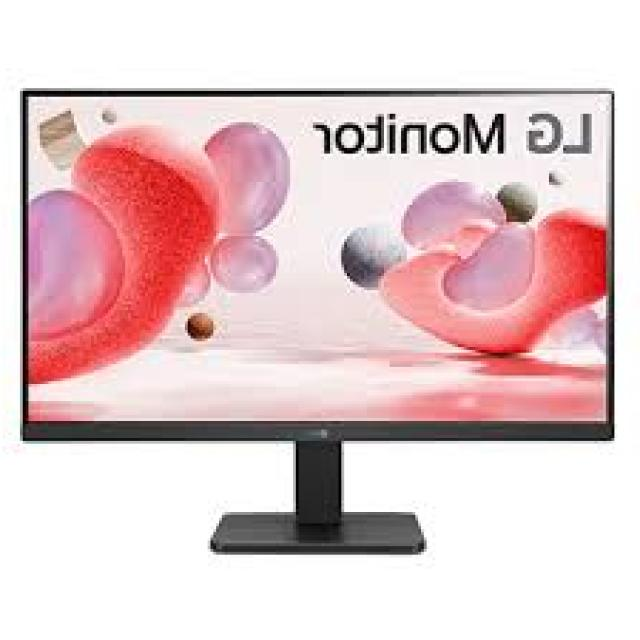monitor: (13, 71, 621, 563)
